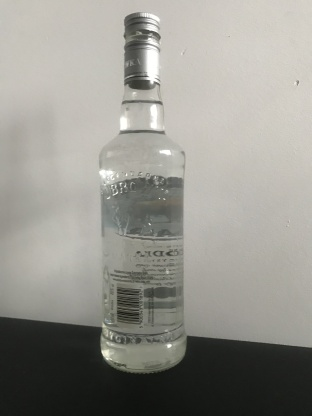nakretka: (122, 11, 162, 90)
